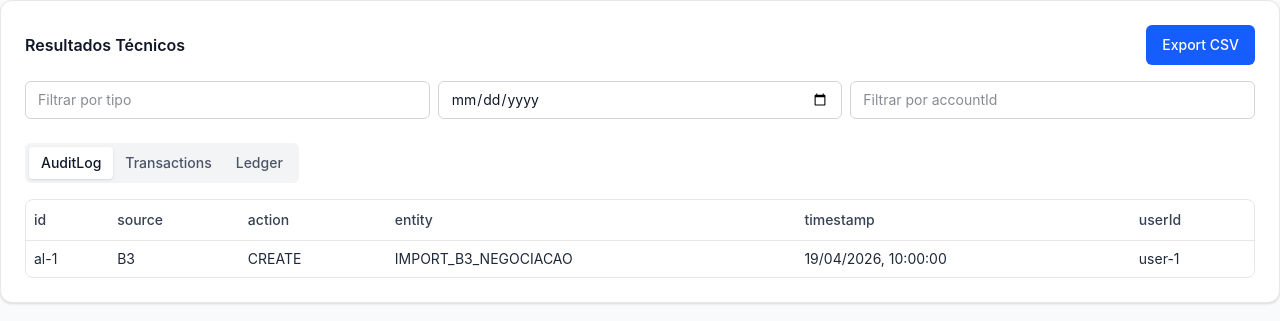
ResultsTable › mostra empty state quando filtros removem todos os registros
In the field labelled "Filtrar por tipo": (227, 100) [25,81,430,119], type "NAO_EXISTE"
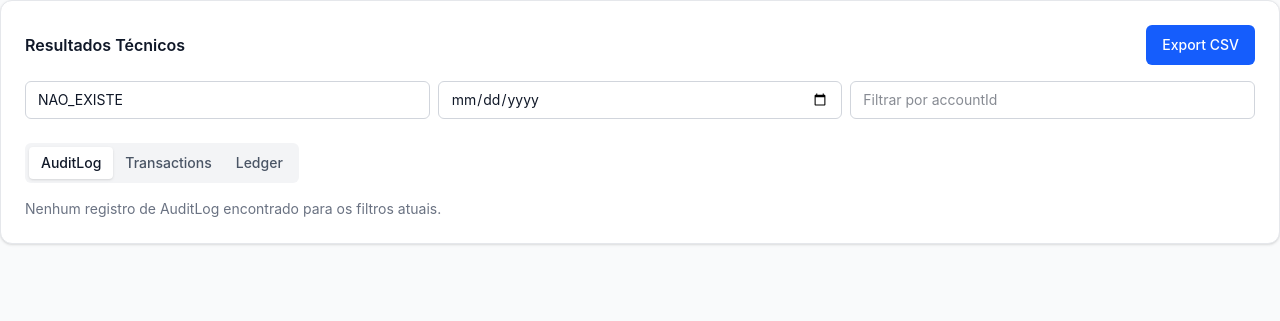
Now the text "Nenhum registro de AuditLog encontrado para os filtros atuais." is shown, box [25,200,441,217]
